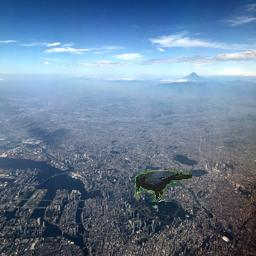Crow: (136, 170, 193, 202)
